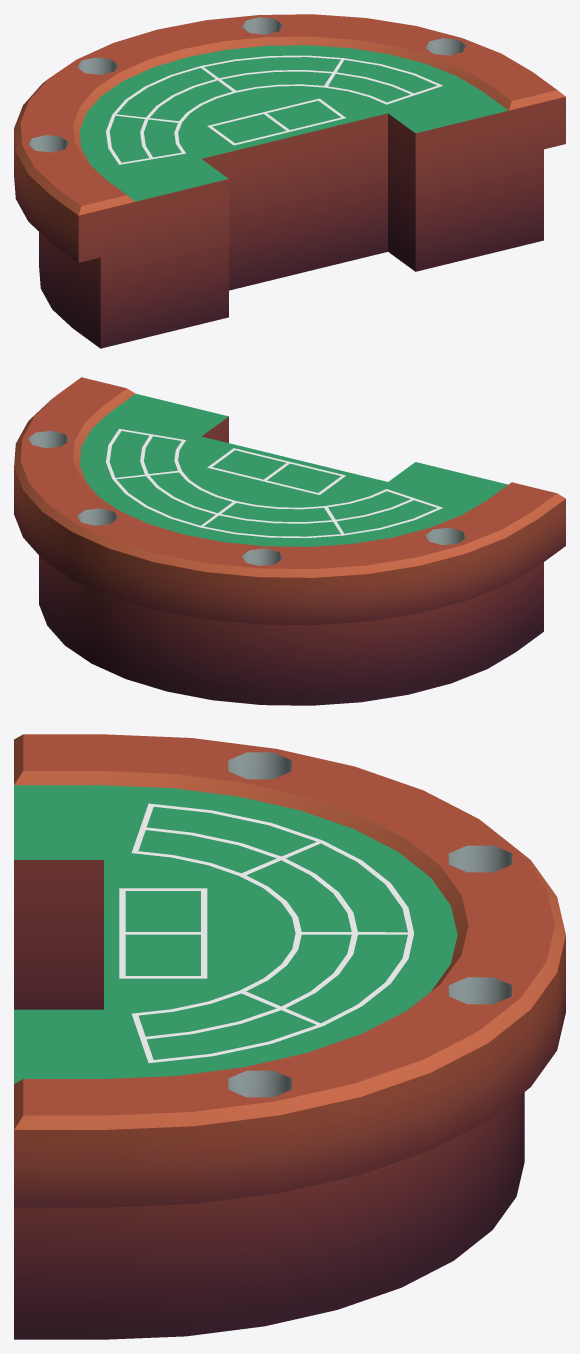
The model's file is Baccarat_01.fbx.
3 views of the same model, one above another, from view 1: azimuth 30°, elevation 25°; view 2: azimuth 150°, elevation 25°; view 3: azimuth 270°, elevation 25° (orthographic). The views are drawn at different scales.
Parts seen in each view (by area): view 1: Baccarat_01; view 2: Baccarat_01; view 3: Baccarat_01.
Boxes of the visible parts, bbox=[...] form: Baccarat_01: bbox=[14, 14, 565, 348]; Baccarat_01: bbox=[14, 377, 565, 705]; Baccarat_01: bbox=[14, 734, 565, 1339].
Bounding box in the file's own units: 3 × 1.79 × 0.8496.
